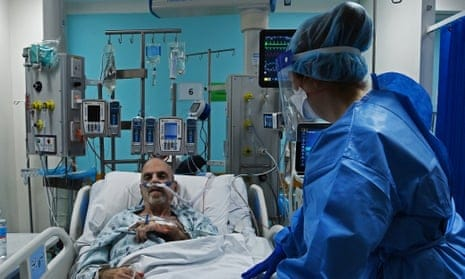patient: (126, 155, 205, 248)
